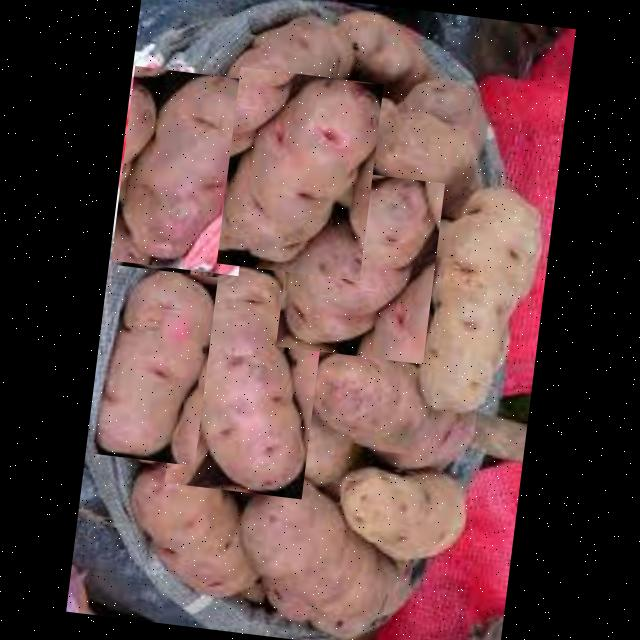Diseased-fungal potato: (163, 256, 328, 499), (215, 67, 382, 280), (406, 174, 547, 423), (274, 165, 443, 364), (110, 66, 260, 276), (90, 264, 216, 466), (330, 457, 476, 570)
